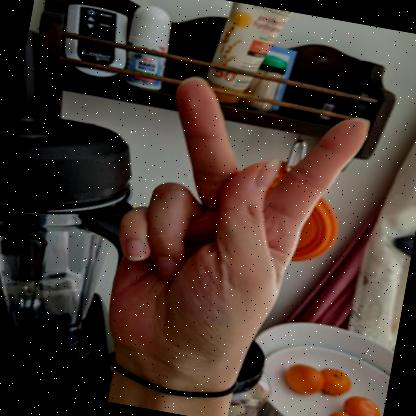K: (108, 76, 370, 378)
